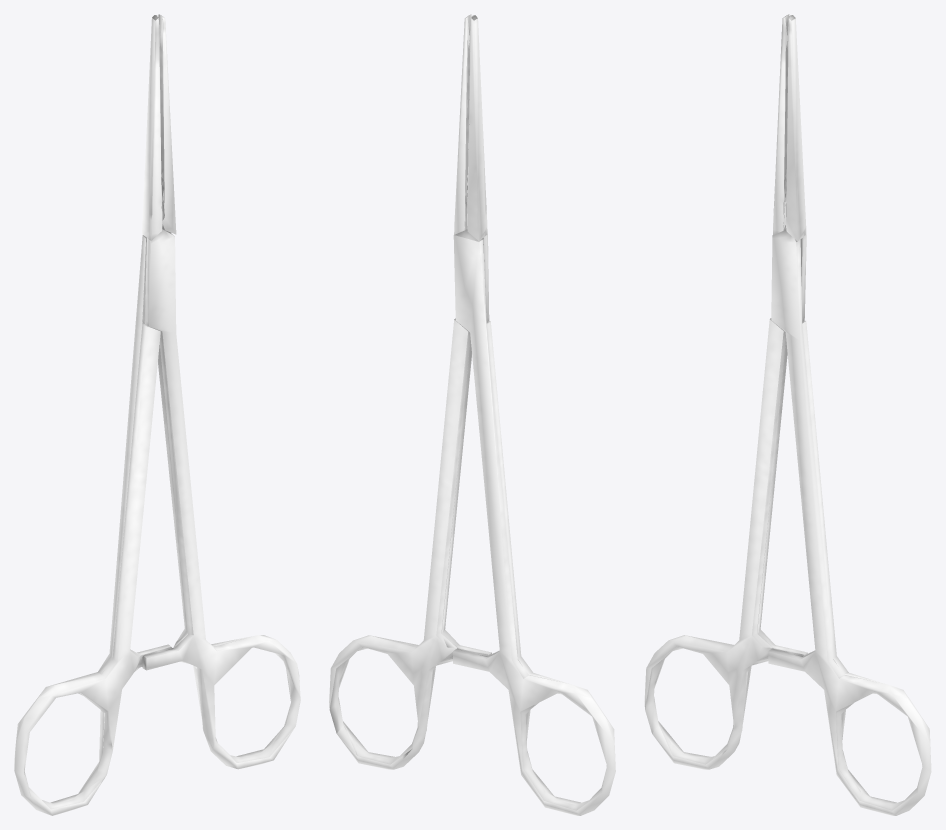
The model's file is SurgicalClamp.glb.
The picture shows the model from 3 angles, left to right: view 1: azimuth 30°, elevation 25°; view 2: azimuth 150°, elevation 25°; view 3: azimuth 330°, elevation 25°; orthographic projection.
Parts seen in each view (by area): view 1: SurgicalClamp; view 2: SurgicalClamp; view 3: SurgicalClamp.
Part boxes in pixels (<box>): SurgicalClamp: <box>14,14,300,815</box>; SurgicalClamp: <box>329,14,615,815</box>; SurgicalClamp: <box>644,14,931,815</box>.
Size of the model in its own units: 0.0881 by 0.2279 by 0.00512.
Materials: 1 (1 with a texture image).
